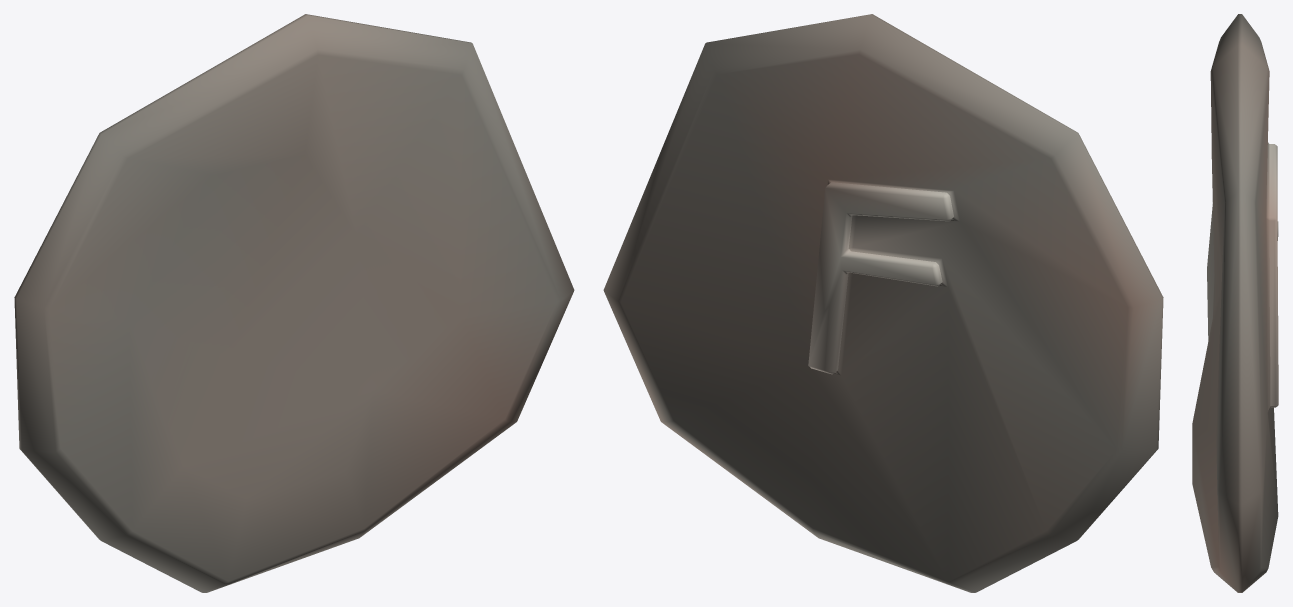
File: Coin.fbx
3 renders of one model, left to right at view 1: azimuth 30°, elevation 25°; view 2: azimuth 150°, elevation 25°; view 3: azimuth 270°, elevation 25°, orthographic. The views are drawn at different scales.
Parts seen in each view (by area): view 1: Plane; view 2: Plane; view 3: Plane.
Boxes of the visible parts, <box> form: Plane: <box>14,14,574,592</box>; Plane: <box>603,14,1163,592</box>; Plane: <box>1192,14,1278,592</box>.
Size of the model in its own units: 81.89 by 77.48 by 11.26.
